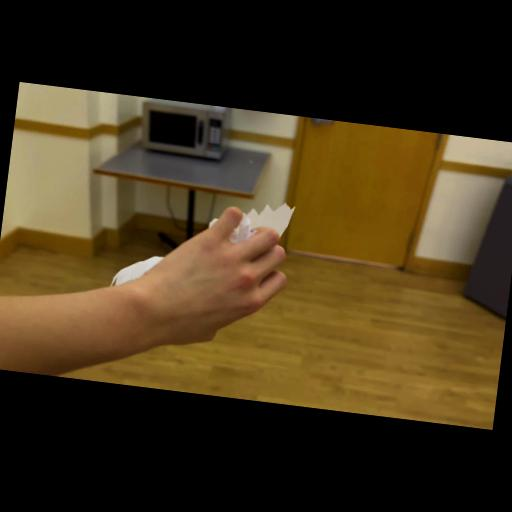napkin: (97, 178, 300, 318)
